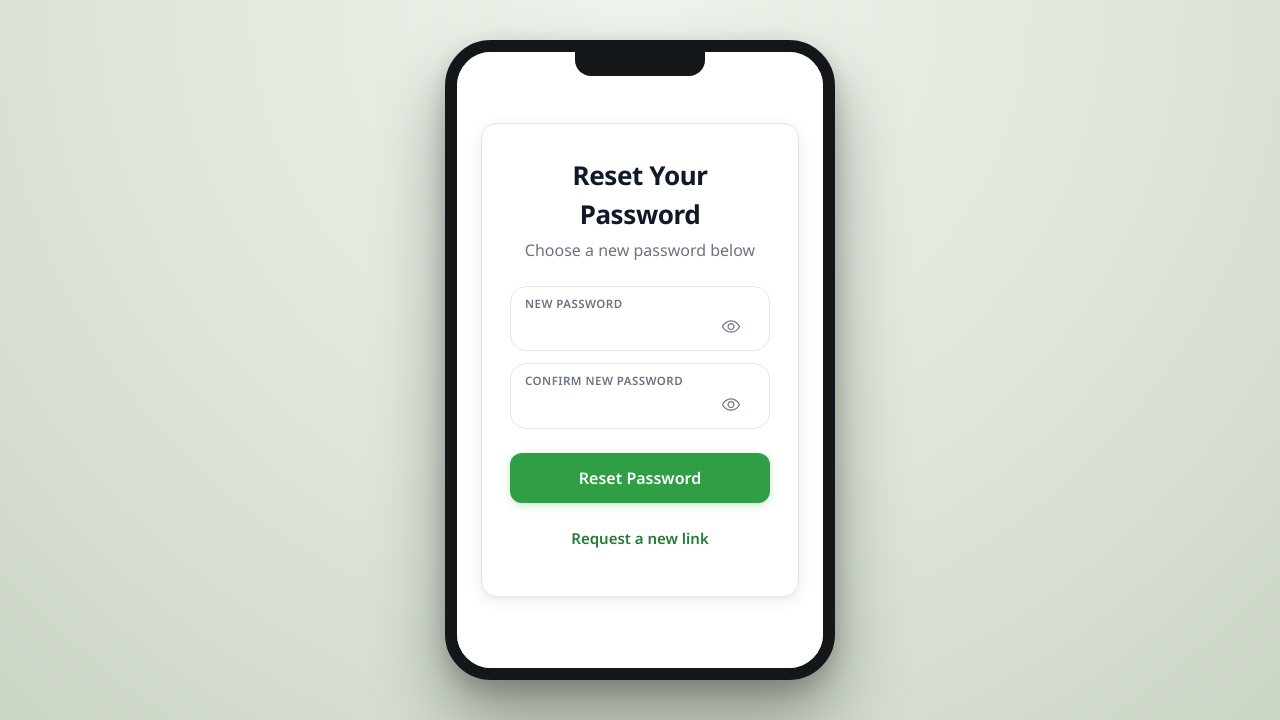
it: ResetPasswordPage › shows an invalid-or-expired message for a bad reset link, without redirecting
The width and height of the screenshot is (1280, 720).
Type "NewSecurePass#1" into the password field labelled "New Password" at (640, 327), box [525, 314, 755, 340]
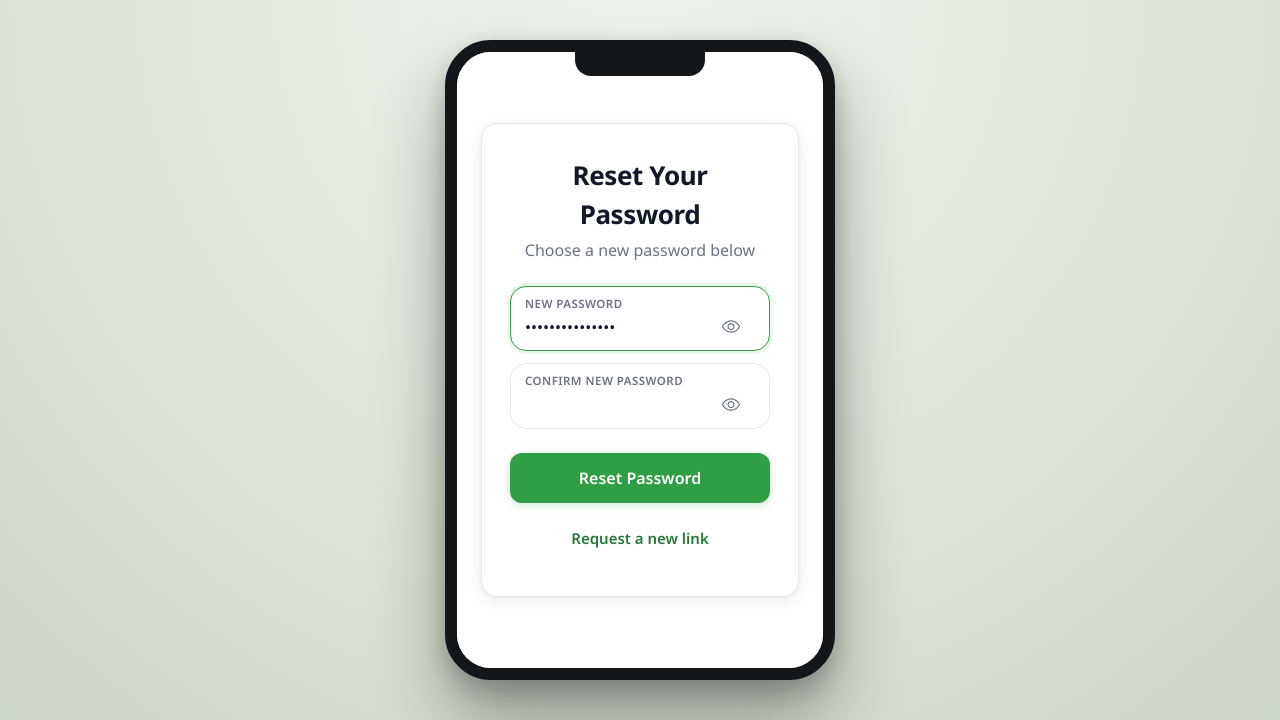
Type "NewSecurePass#1" into the password field labelled "Confirm New Password" at (640, 404), box [525, 392, 755, 418]
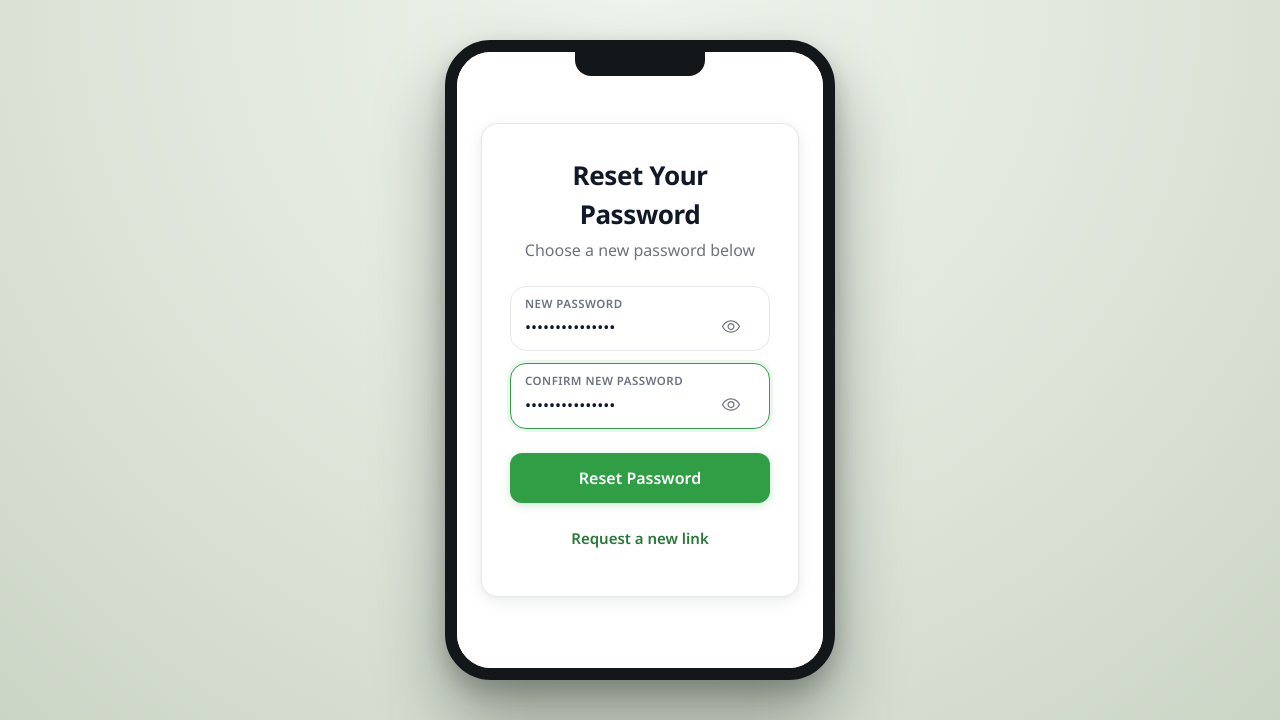
Click the button "Reset Password" at (640, 478), box [510, 452, 770, 502]
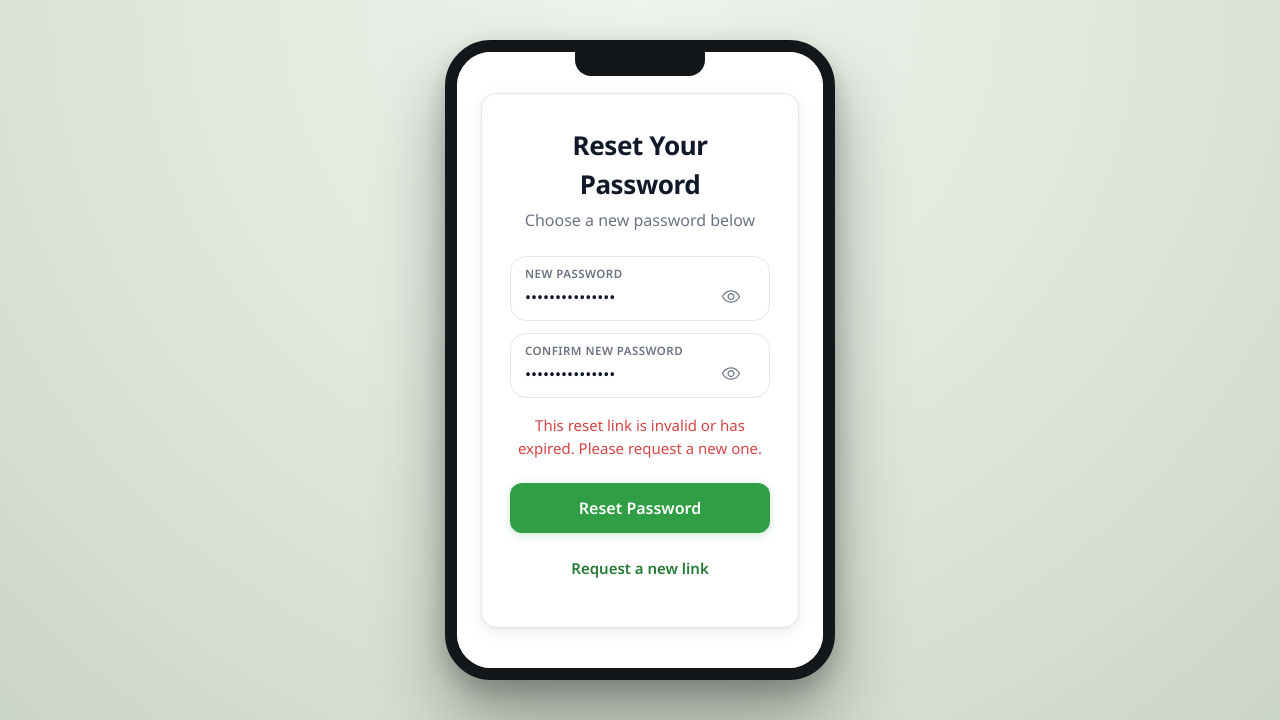
Result: the message shows "invalid or has expired" at [518, 415, 762, 458]
